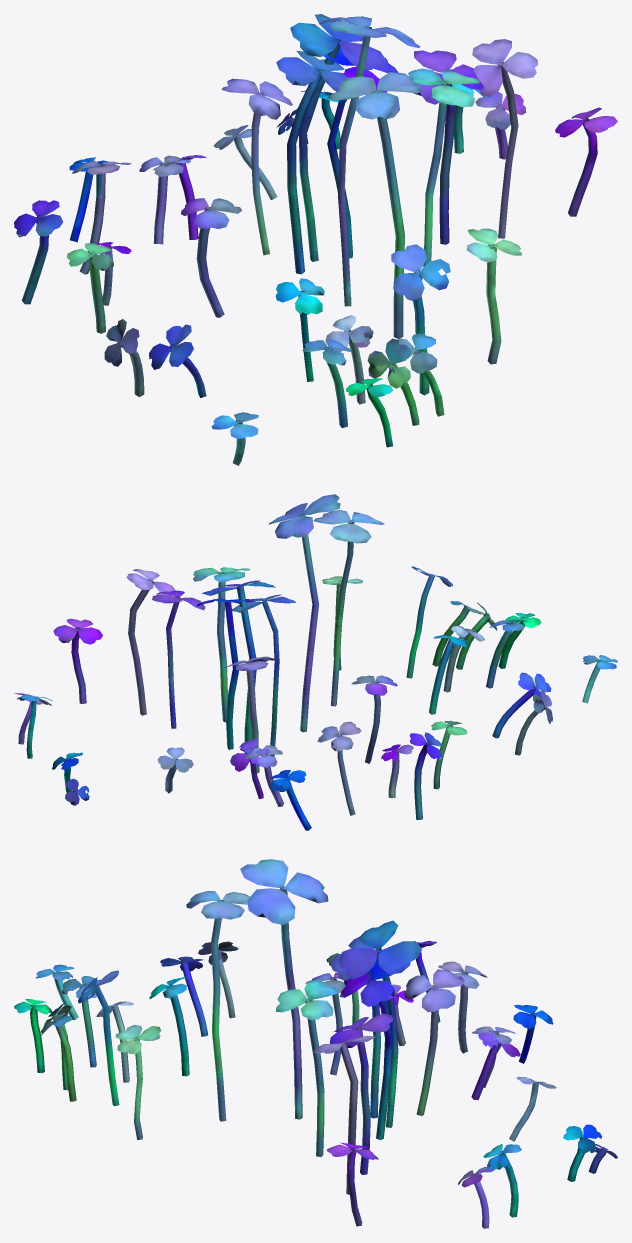
Rendered from cloverpatch2.fbx.
3 renders of one model, top to bottom at view 1: azimuth 30°, elevation 25°; view 2: azimuth 150°, elevation 25°; view 3: azimuth 270°, elevation 25°, orthographic. The views are drawn at different scales.
Visible parts, largest first — view 1: clovers; view 2: clovers; view 3: clovers.
Boxes of the visible parts, x1,y1,x2,y2 form: clovers: (14, 14, 617, 465); clovers: (14, 494, 617, 830); clovers: (14, 859, 617, 1228).
Size of the model in its own units: 42.37 by 20.76 by 45.65.
1 material, 1 textured.
